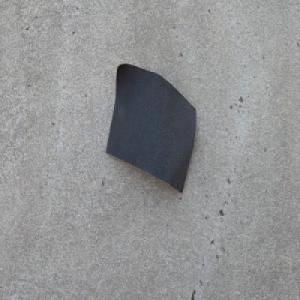PaintChip: (105, 60, 197, 195)
